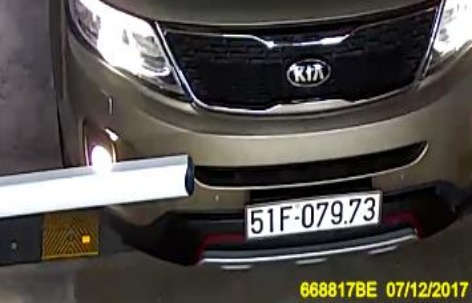plate: (242, 187, 381, 237)
